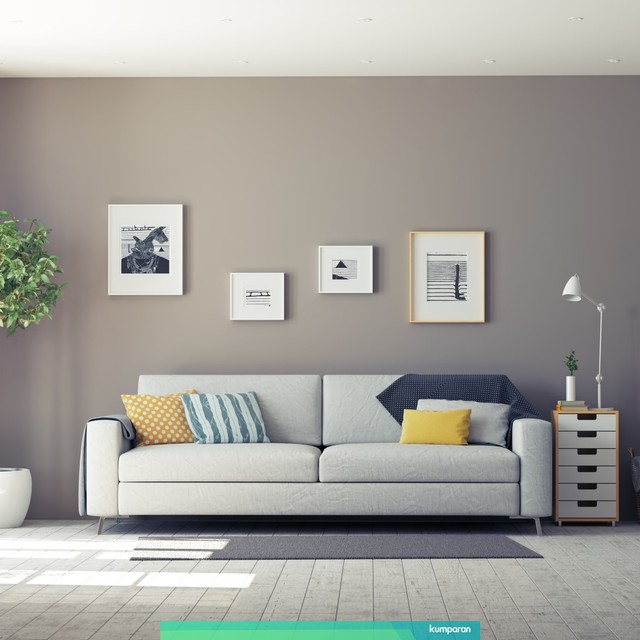Painting: (406, 228, 491, 331), (103, 200, 192, 297), (313, 240, 381, 296), (226, 270, 289, 325)
Sofa: (86, 362, 558, 540)
